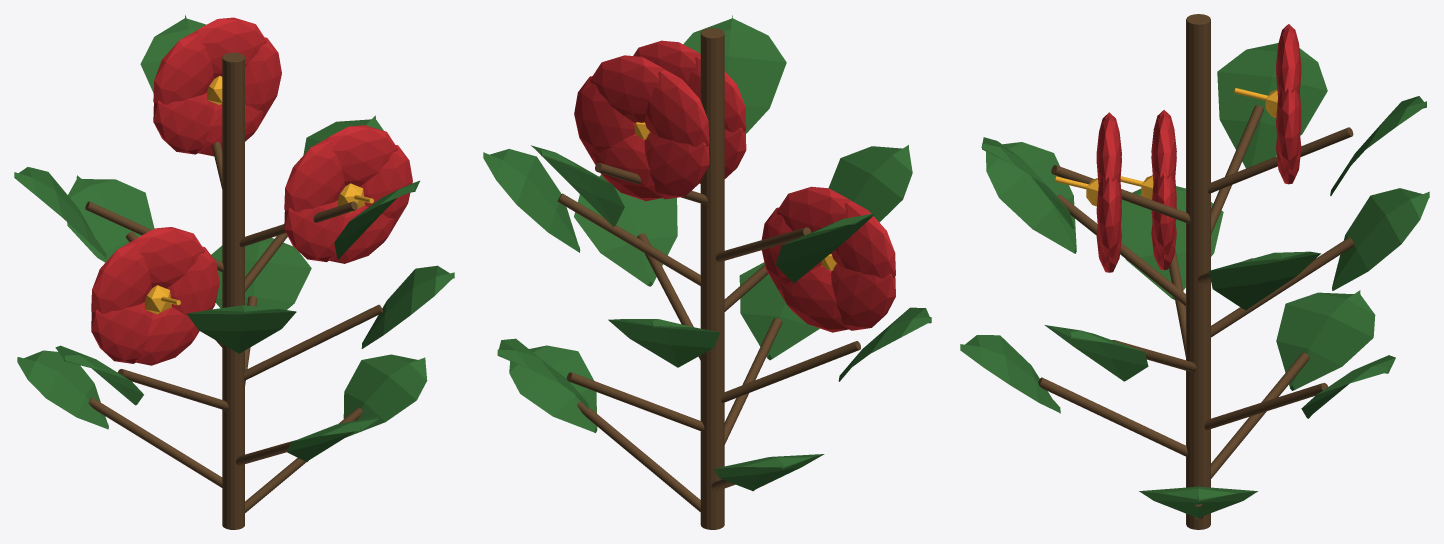
File: source-edit.glb
The picture shows the model from 3 angles, left to right: view 1: azimuth 30°, elevation 25°; view 2: azimuth 150°, elevation 25°; view 3: azimuth 270°, elevation 25°; orthographic projection. The views are drawn at different scales.
Parts seen in each view (by area): view 1: HIBISCUS_Stem, HIBISCUS_Leaf_0, HIBISCUS_Leaf_6, HIBISCUS_Leaf_3, HIBISCUS_Leaf_1, HIBISCUS_Leaf_7, HIBISCUS_Flower_0_Petal.003, HIBISCUS_Flower_1_Petal.003, HIBISCUS_Flower_2_Petal.003, HIBISCUS_Flower_1_Petal.002, HIBISCUS_Flower_0_Petal.002, HIBISCUS_Flower_2_Petal.004 (+25 smaller); view 2: HIBISCUS_Stem, HIBISCUS_Leaf_5, HIBISCUS_Leaf_10, HIBISCUS_Leaf_7, HIBISCUS_Leaf_8, HIBISCUS_Leaf_0, HIBISCUS_Flower_2_Petal.003, HIBISCUS_Leaf_2, HIBISCUS_Flower_2_Petal.002, HIBISCUS_Flower_1_Petal.004, HIBISCUS_Flower_2_Petal.004, HIBISCUS_Leaf_6 (+23 smaller); view 3: HIBISCUS_Stem, HIBISCUS_Leaf_1, HIBISCUS_Leaf_9, HIBISCUS_Leaf_7, HIBISCUS_Leaf_6, HIBISCUS_Leaf_8, HIBISCUS_Leaf_4, HIBISCUS_Leaf_2, HIBISCUS_Leaf_5, HIBISCUS_Leaf_0, HIBISCUS_Branch.002, HIBISCUS_Flower_0_Petal.001 (+17 smaller).
Part boxes in pixels (x1=…): HIBISCUS_Stem: x1=222, y1=52, x2=244, y2=529; HIBISCUS_Leaf_0: x1=343, y1=354, x2=427, y2=437; HIBISCUS_Leaf_6: x1=67, y1=175, x2=154, y2=262; HIBISCUS_Leaf_3: x1=211, y1=230, x2=311, y2=309; HIBISCUS_Leaf_1: x1=17, y1=350, x2=108, y2=429; HIBISCUS_Leaf_7: x1=186, y1=305, x2=296, y2=353; HIBISCUS_Flower_0_Petal.003: x1=284, y1=138, x2=345, y2=212; HIBISCUS_Flower_1_Petal.003: x1=91, y1=240, x2=152, y2=313; HIBISCUS_Flower_2_Petal.003: x1=153, y1=30, x2=214, y2=104; HIBISCUS_Flower_1_Petal.002: x1=133, y1=227, x2=204, y2=288; HIBISCUS_Flower_0_Petal.002: x1=326, y1=125, x2=397, y2=186; HIBISCUS_Flower_2_Petal.004: x1=153, y1=92, x2=214, y2=154; HIBISCUS_Stem: x1=700, y1=28, x2=724, y2=529; HIBISCUS_Leaf_5: x1=574, y1=175, x2=677, y2=286; HIBISCUS_Leaf_10: x1=683, y1=15, x2=786, y2=133; HIBISCUS_Leaf_7: x1=828, y1=145, x2=912, y2=222; HIBISCUS_Leaf_8: x1=483, y1=149, x2=580, y2=252; HIBISCUS_Leaf_0: x1=509, y1=345, x2=597, y2=432; HIBISCUS_Flower_2_Petal.003: x1=644, y1=69, x2=709, y2=146; HIBISCUS_Leaf_2: x1=739, y1=262, x2=819, y2=360; HIBISCUS_Flower_2_Petal.002: x1=590, y1=55, x2=665, y2=123; HIBISCUS_Flower_1_Petal.004: x1=831, y1=264, x2=895, y2=330; HIBISCUS_Flower_2_Petal.004: x1=644, y1=132, x2=709, y2=199; HIBISCUS_Leaf_6: x1=608, y1=319, x2=719, y2=367; HIBISCUS_Stem: x1=1186, y1=14, x2=1210, y2=529; HIBISCUS_Leaf_1: x1=1276, y1=290, x2=1375, y2=390; HIBISCUS_Leaf_9: x1=1217, y1=43, x2=1327, y2=168; HIBISCUS_Leaf_7: x1=986, y1=142, x2=1076, y2=253; HIBISCUS_Leaf_6: x1=1332, y1=188, x2=1429, y2=290; HIBISCUS_Leaf_8: x1=1209, y1=251, x2=1320, y2=310; HIBISCUS_Leaf_4: x1=1121, y1=186, x2=1223, y2=299; HIBISCUS_Leaf_2: x1=960, y1=335, x2=1060, y2=413; HIBISCUS_Leaf_5: x1=1044, y1=325, x2=1148, y2=381; HIBISCUS_Leaf_0: x1=1139, y1=486, x2=1257, y2=518; HIBISCUS_Branch.002: x1=1038, y1=377, x2=1187, y2=456; HIBISCUS_Flower_0_Petal.001: x1=1096, y1=175, x2=1121, y2=258.
Size of the model in its own units: 0.9528 by 1.12 by 0.942.
